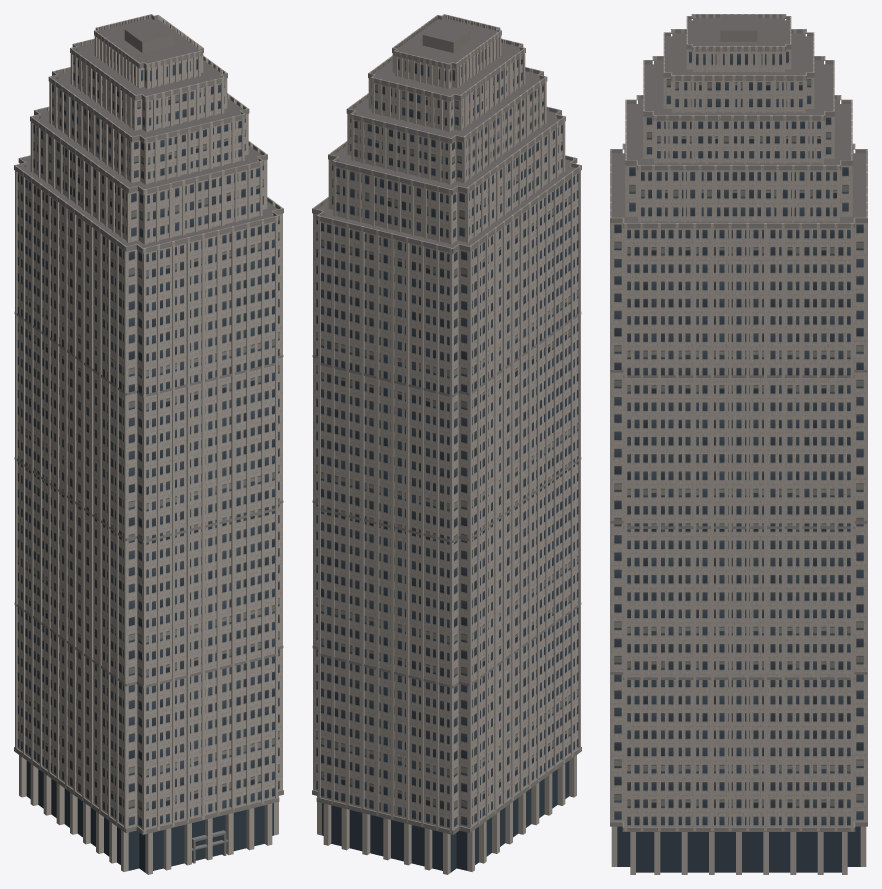
The model's file is fremont_50.glb.
3 renders of one model, left to right at view 1: azimuth 30°, elevation 25°; view 2: azimuth 150°, elevation 25°; view 3: azimuth 270°, elevation 25°, orthographic. The views are drawn at different scales.
Parts seen in each view (by area): view 1: fremont_50; view 2: fremont_50; view 3: fremont_50.
Part boxes in pixels (<box>): fremont_50: <box>14,14,283,874</box>; fremont_50: <box>312,14,581,874</box>; fremont_50: <box>610,14,867,874</box>.
Bounding box in the file's own units: 38.6 × 183 × 52.59.
Materials: 2 (2 with a texture image).
